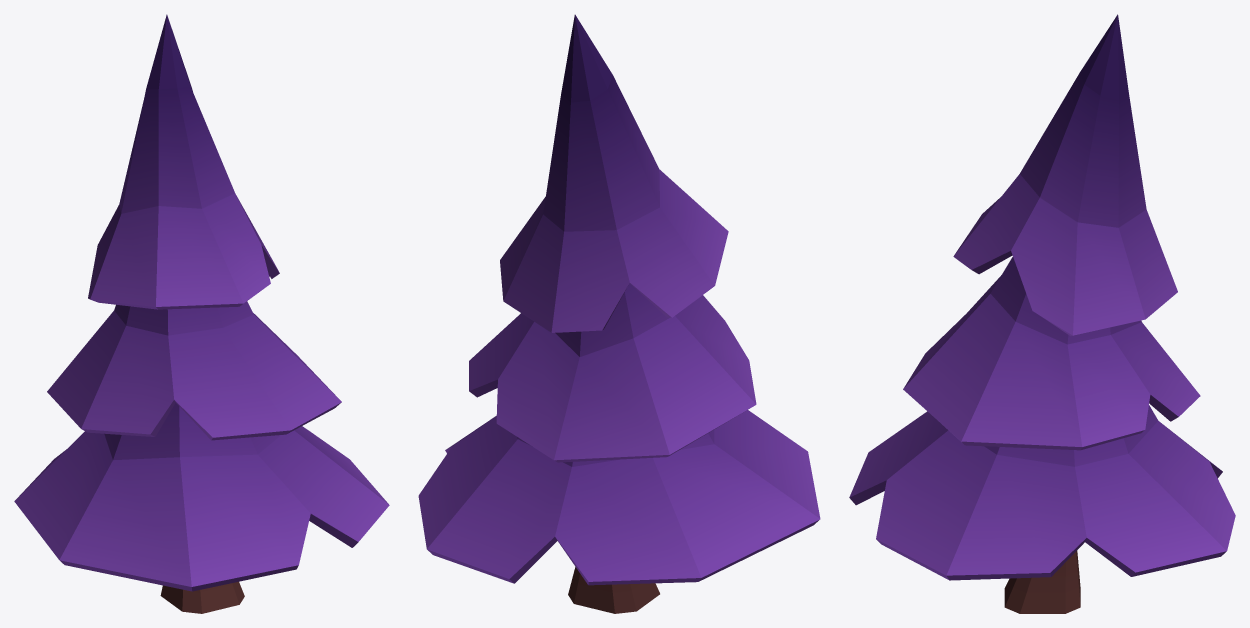
Rendered from MagicPine3.fbx.
3 renders of one model, left to right at view 1: azimuth 30°, elevation 25°; view 2: azimuth 150°, elevation 25°; view 3: azimuth 270°, elevation 25°, orthographic. The views are drawn at different scales.
Visible parts, largest first — view 1: MagicPine3; view 2: MagicPine3; view 3: MagicPine3.
Boxes of the visible parts, bbox=[...] form: MagicPine3: bbox=[14, 14, 389, 613]; MagicPine3: bbox=[418, 14, 820, 613]; MagicPine3: bbox=[849, 14, 1235, 613].
Size of the model in its own units: 366 by 613 by 368.
